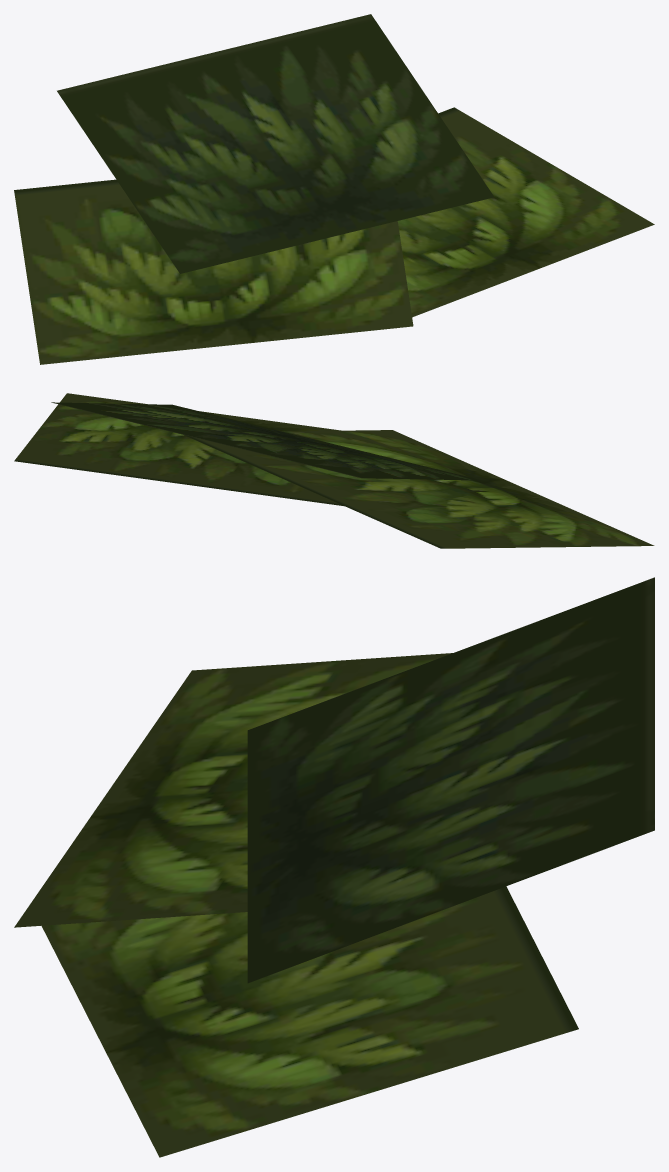
Rendered from dec_Border_Bush_10_2567.glb.
3 views of the same model, one above another, from view 1: azimuth 30°, elevation 25°; view 2: azimuth 150°, elevation 25°; view 3: azimuth 270°, elevation 25° (orthographic). The views are drawn at different scales.
Visible parts, largest first — view 1: Border_Bush_10_mesh; view 2: Border_Bush_10_mesh; view 3: Border_Bush_10_mesh.
Part boxes in pixels (x1,y1,x2,y2): Border_Bush_10_mesh: (14, 14, 654, 364); Border_Bush_10_mesh: (14, 393, 654, 548); Border_Bush_10_mesh: (14, 577, 654, 1157).
Bounding box in the file's own units: 1.57 × 0.3297 × 0.8719.
Materials: 1 (1 with a texture image).
